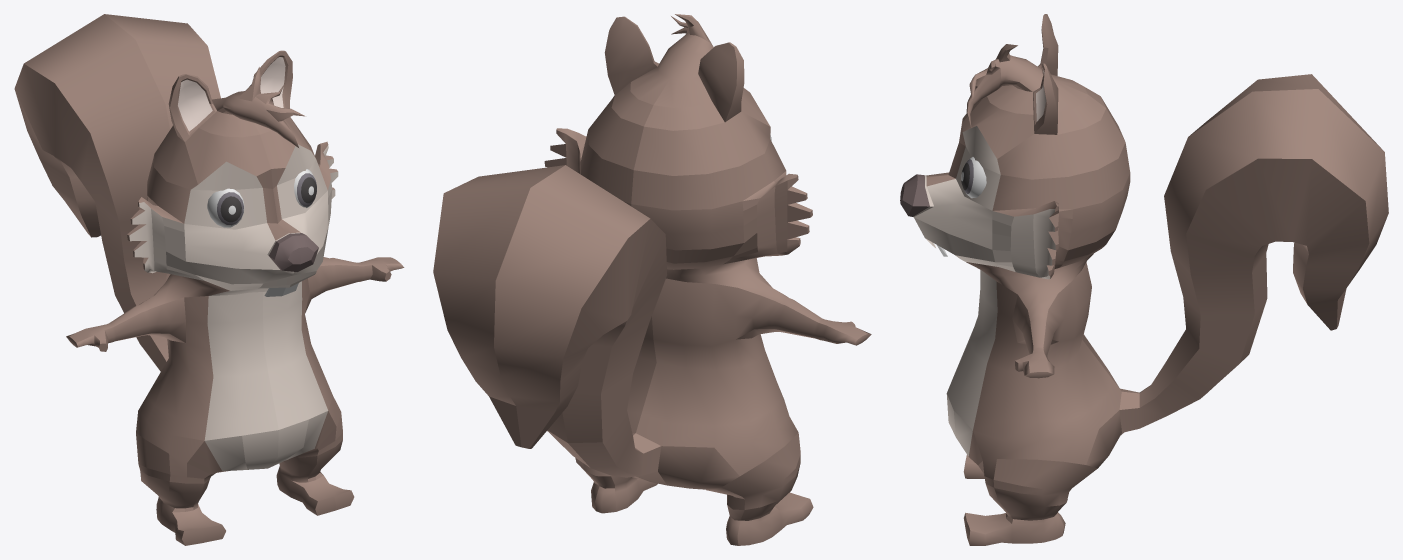
Rendered from Chipmunk_LowPoly.fbx.
3 views of the same model, side by side, from view 1: azimuth 30°, elevation 25°; view 2: azimuth 150°, elevation 25°; view 3: azimuth 270°, elevation 25° (orthographic). The views are drawn at different scales.
Visible parts, largest first — view 1: Body, Eyes1, Eyes2; view 2: Body; view 3: Body, Eyes2.
Boxes of the visible parts, x1=… form: Body: x1=14, y1=14, x2=404, y2=545; Eyes1: x1=207, y1=188, x2=244, y2=227; Eyes2: x1=294, y1=169, x2=316, y2=207; Body: x1=433, y1=14, x2=871, y2=545; Body: x1=900, y1=14, x2=1388, y2=545; Eyes2: x1=961, y1=157, x2=986, y2=198.
Bounding box in the file's own units: 10.01 × 12.87 × 12.25.
